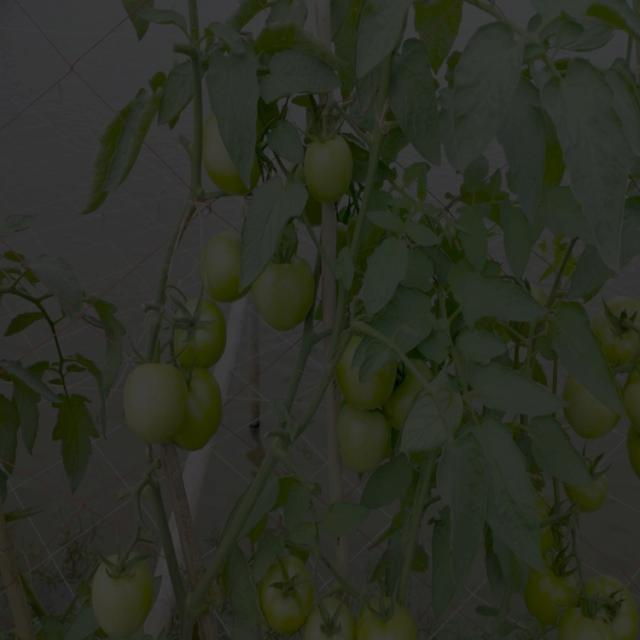tomato: (254, 254, 322, 334), (172, 292, 231, 375), (95, 556, 156, 634), (122, 360, 182, 437), (298, 132, 361, 202), (172, 374, 227, 447), (341, 403, 396, 472), (339, 346, 394, 410), (201, 232, 250, 299), (266, 556, 312, 626), (600, 300, 640, 370), (532, 558, 577, 620), (566, 386, 613, 440), (204, 125, 242, 188), (364, 595, 415, 640), (390, 360, 428, 420), (310, 598, 361, 640), (569, 600, 610, 640), (539, 500, 569, 550), (605, 595, 640, 635), (588, 577, 623, 609), (629, 377, 640, 418), (632, 422, 640, 477)
